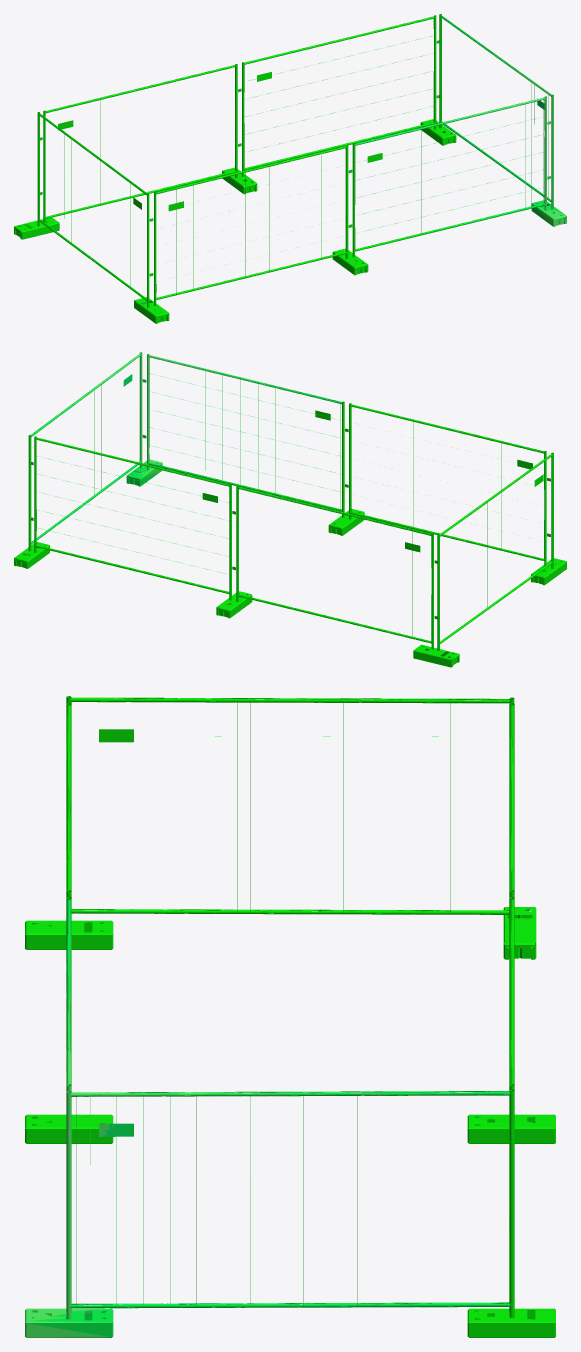
Rendered from fenceAssemblyGreenRectangle4x8x2.5m.dae.
3 renders of one model, top to bottom at view 1: azimuth 30°, elevation 25°; view 2: azimuth 150°, elevation 25°; view 3: azimuth 270°, elevation 25°, orthographic. The views are drawn at different scales.
Visible parts, largest first — view 1: fenceAssemblyGreenRectangle4x8x2.5m; view 2: fenceAssemblyGreenRectangle4x8x2.5m; view 3: fenceAssemblyGreenRectangle4x8x2.5m.
Part boxes in pixels (bbox=[...]): fenceAssemblyGreenRectangle4x8x2.5m: bbox=[14, 14, 566, 323]; fenceAssemblyGreenRectangle4x8x2.5m: bbox=[14, 352, 566, 667]; fenceAssemblyGreenRectangle4x8x2.5m: bbox=[25, 696, 555, 1337].
Size of the model in its own units: 8.52 by 4.6 by 2.32.
